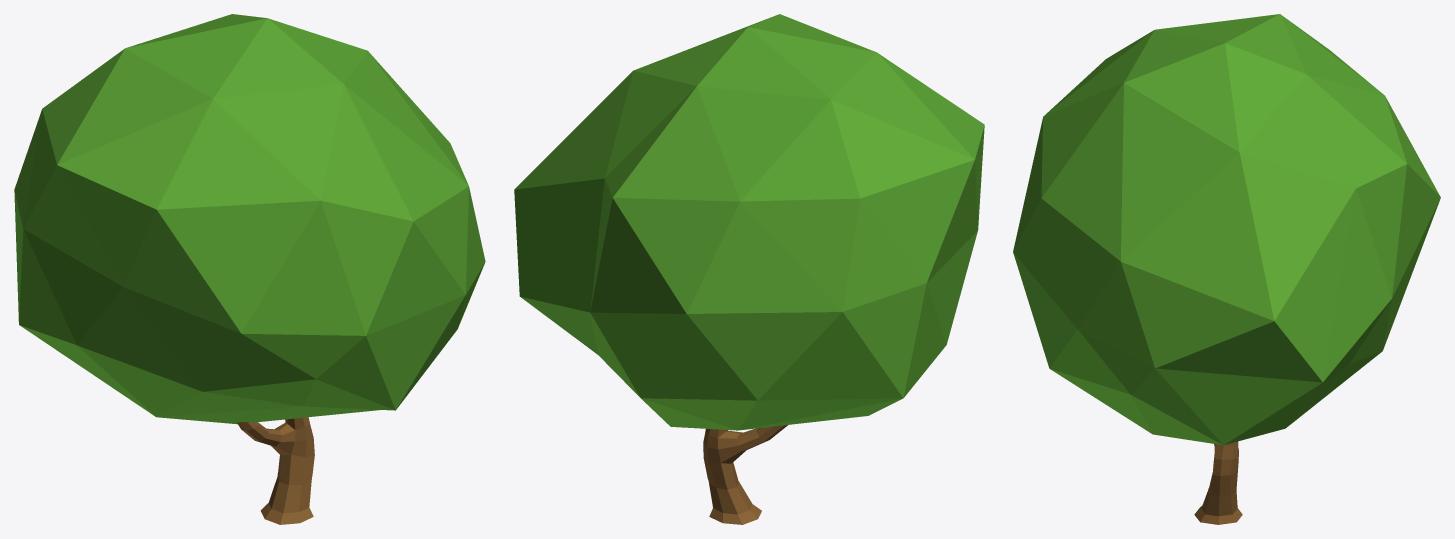
The model's file is Bush1Broken.fbx.
The picture shows the model from 3 angles, left to right: view 1: azimuth 30°, elevation 25°; view 2: azimuth 150°, elevation 25°; view 3: azimuth 270°, elevation 25°; orthographic projection. The views are drawn at different scales.
Parts seen in each view (by area): view 1: polySurface2, polySurface1; view 2: polySurface2, polySurface1; view 3: polySurface2, polySurface1.
Part boxes in pixels (x1,y1,x2,y2): polySurface2: (14,14,485,484); polySurface1: (260,472,313,524); polySurface2: (514,14,984,486); polySurface1: (708,480,761,524); polySurface2: (1013,14,1440,493); polySurface1: (1194,487,1242,524).
Bounding box in the file's own units: 193 × 213 × 178.
